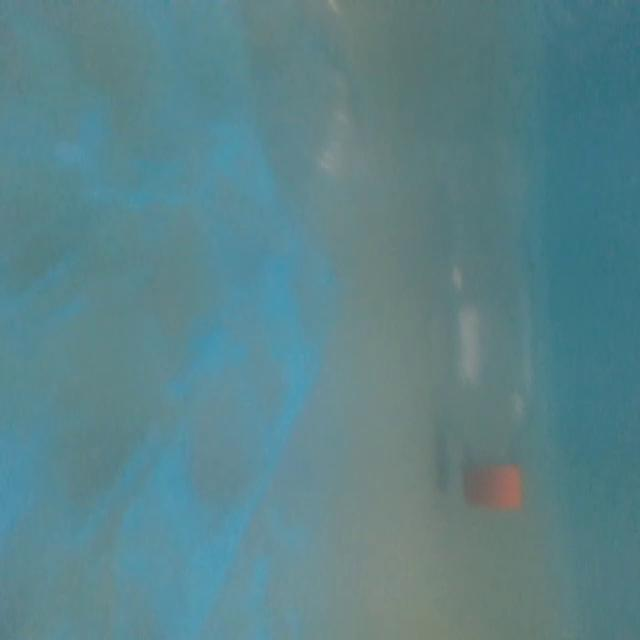plastic bottle: (431, 115, 552, 536)
